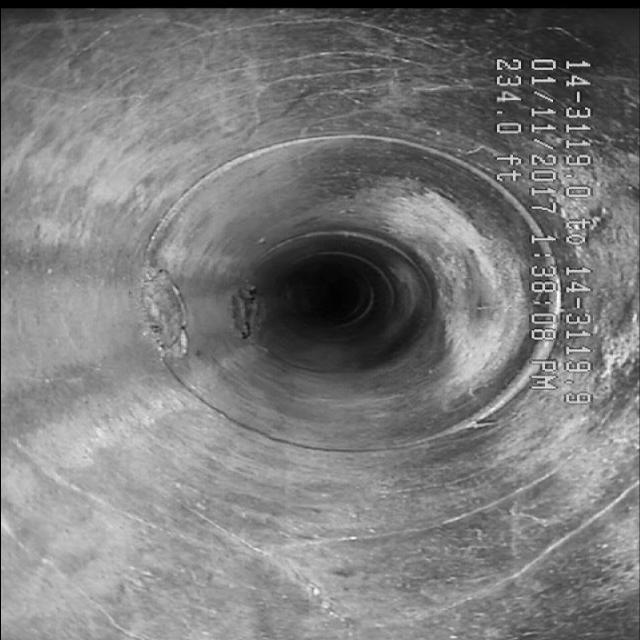Crack: (135, 479, 439, 616)
